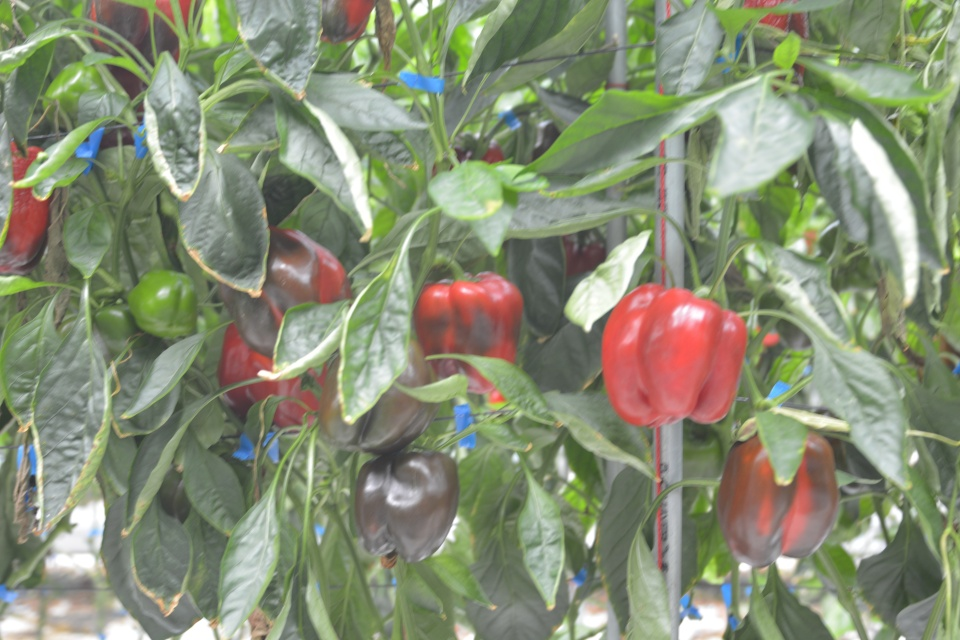fruit: (599, 282, 748, 429), (218, 226, 355, 360), (84, 0, 201, 150), (316, 338, 442, 458), (410, 269, 526, 396), (352, 443, 460, 564), (215, 320, 329, 429), (0, 139, 55, 279), (741, 0, 812, 93), (125, 266, 198, 340), (431, 131, 504, 179), (94, 296, 139, 357), (318, 0, 380, 44), (561, 225, 608, 277)
